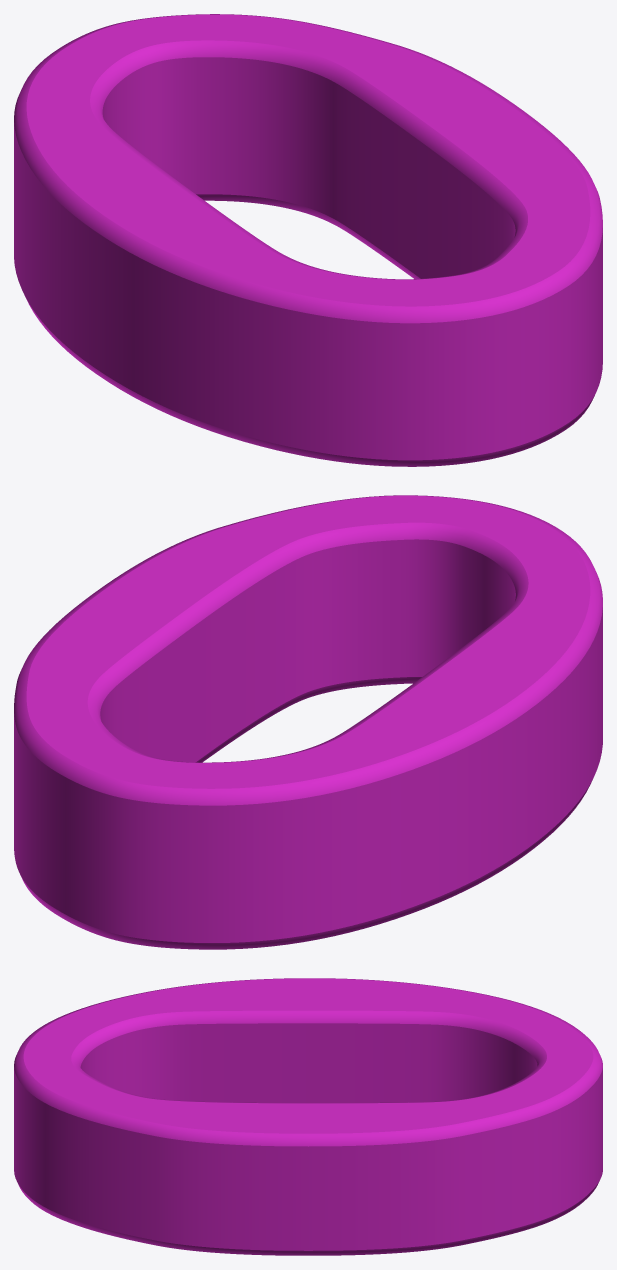
File: Number_0.fbx
3 renders of one model, top to bottom at view 1: azimuth 30°, elevation 25°; view 2: azimuth 150°, elevation 25°; view 3: azimuth 270°, elevation 25°, orthographic. The views are drawn at different scales.
Parts seen in each view (by area): view 1: Number_0; view 2: Number_0; view 3: Number_0.
Boxes of the visible parts, <box> form: Number_0: <box>14,14,602,466</box>; Number_0: <box>14,495,602,949</box>; Number_0: <box>14,978,602,1255</box>.
Bounding box in the file's own units: 0.4029 × 0.14 × 0.6139.
